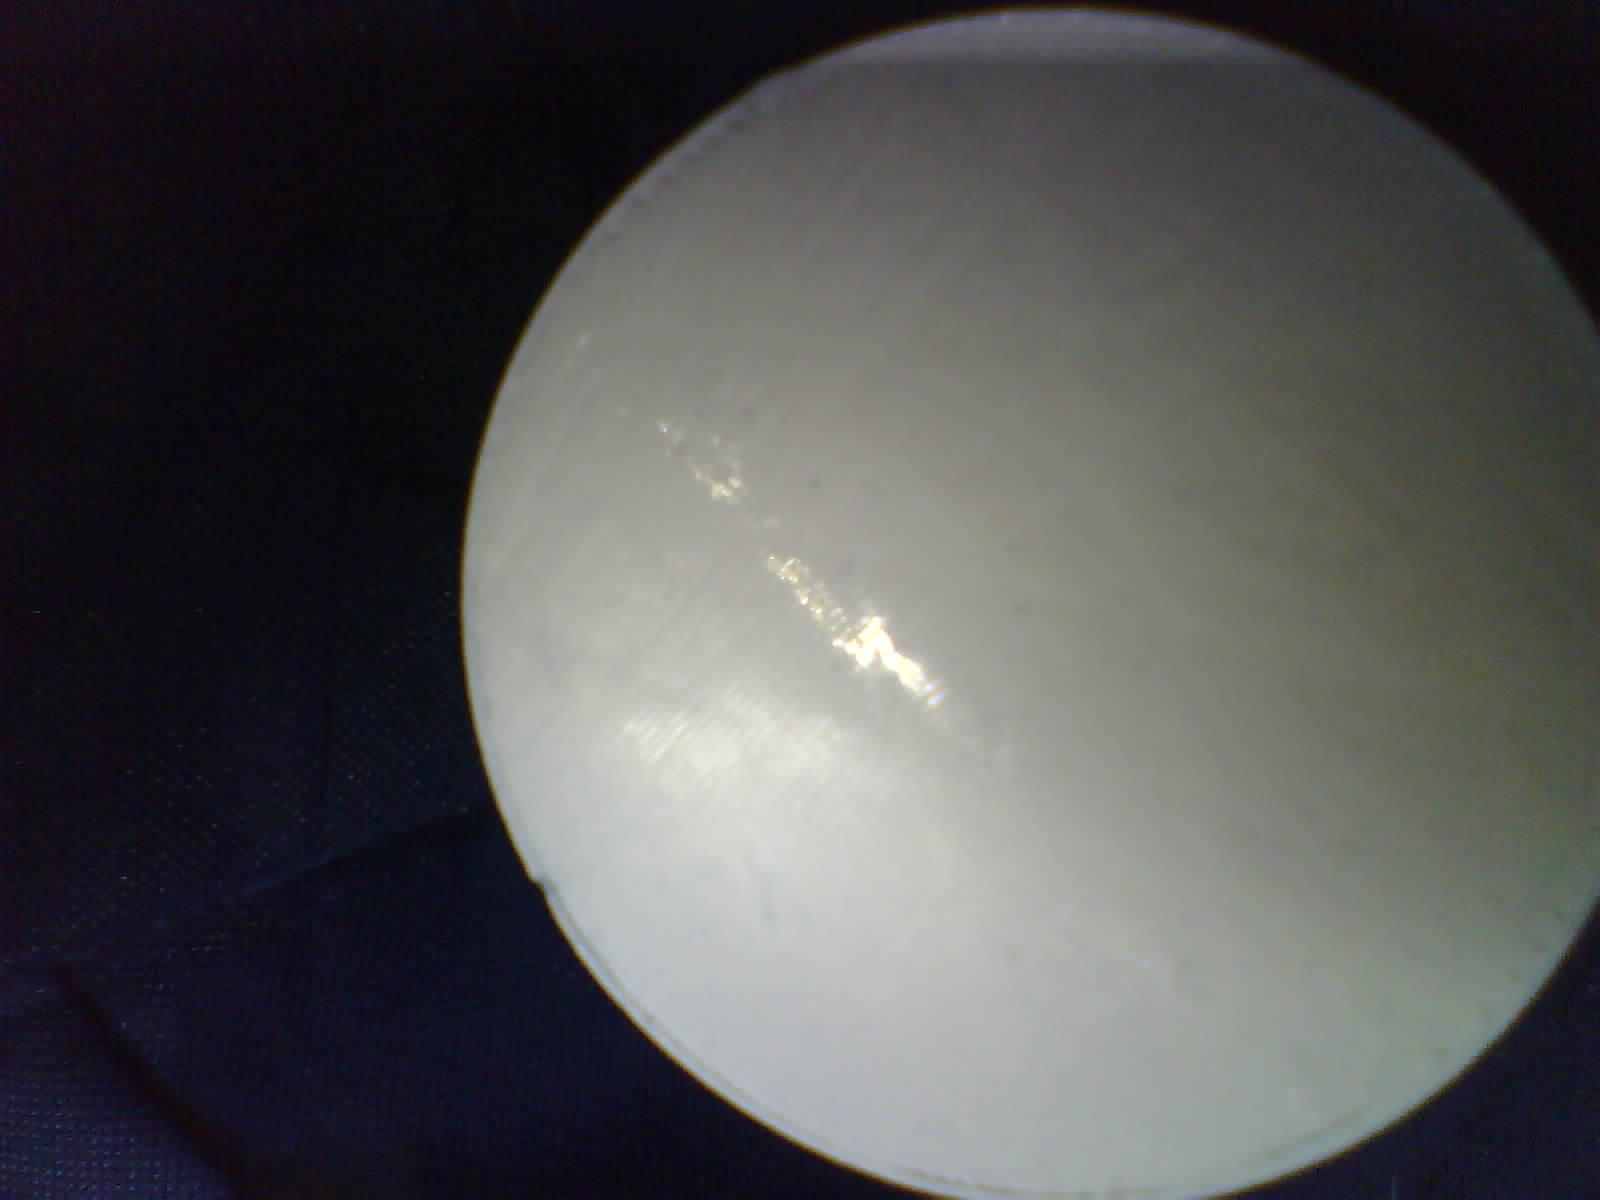cylinder-hard: (427, 0, 1600, 1200)
